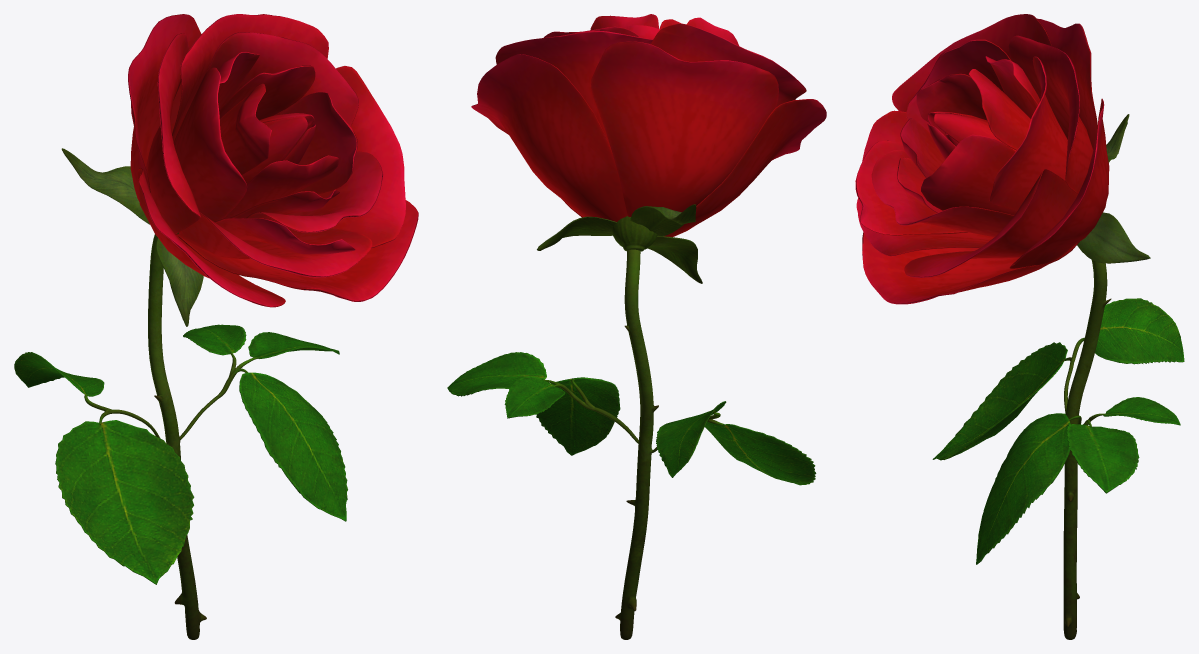
File: rose.fbx
3 renders of one model, left to right at view 1: azimuth 30°, elevation 25°; view 2: azimuth 150°, elevation 25°; view 3: azimuth 270°, elevation 25°, orthographic. The views are drawn at different scales.
Visible parts, largest first — view 1: node_id44; view 2: node_id44; view 3: node_id44.
Boxes of the visible parts, <box> form: node_id44: <box>14,14,418,639</box>; node_id44: <box>447,14,826,639</box>; node_id44: <box>855,14,1184,639</box>.
Bounding box in the file's own units: 0.2838 × 0.512 × 0.2519.
Materials: 1 (1 with a texture image).
